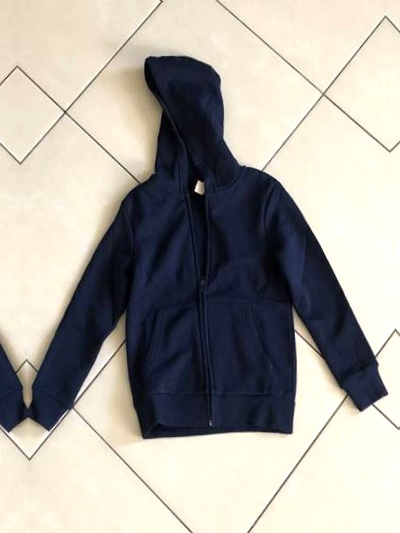Hoodie: (25, 38, 368, 458), (0, 49, 20, 469)
